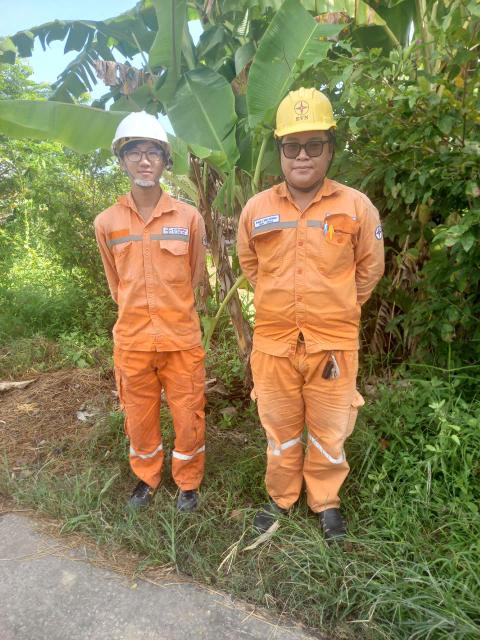helmet: (243, 76, 345, 152), (107, 98, 186, 166)
shoes: (249, 488, 286, 546), (117, 472, 158, 521), (319, 495, 351, 552), (170, 486, 203, 530)
